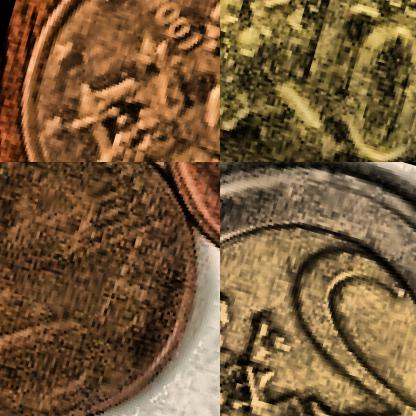coin: (0, 162, 219, 415), (220, 162, 415, 415), (0, 0, 219, 161), (220, 0, 415, 161)
